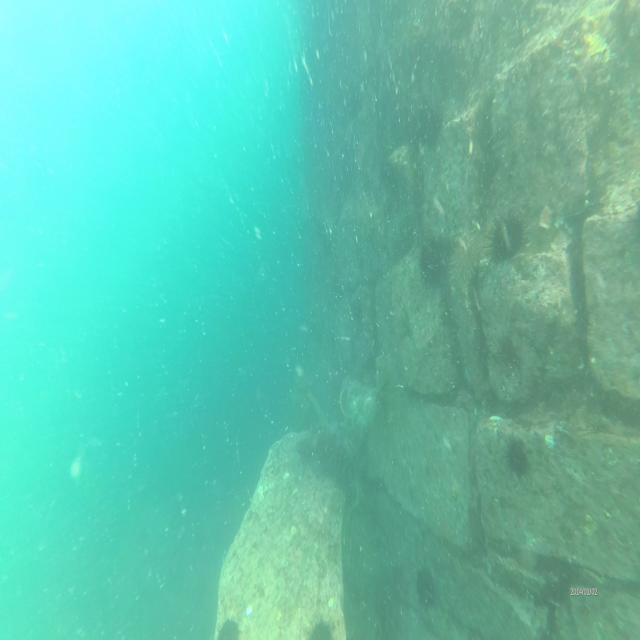echinus: (490, 327, 522, 388), (451, 232, 475, 288), (493, 210, 520, 257), (503, 440, 530, 482), (414, 562, 436, 608), (418, 247, 441, 290), (306, 612, 333, 640), (216, 616, 242, 639)
